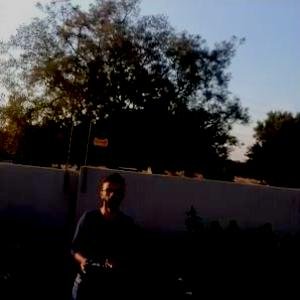follow: (63, 167, 140, 299)
